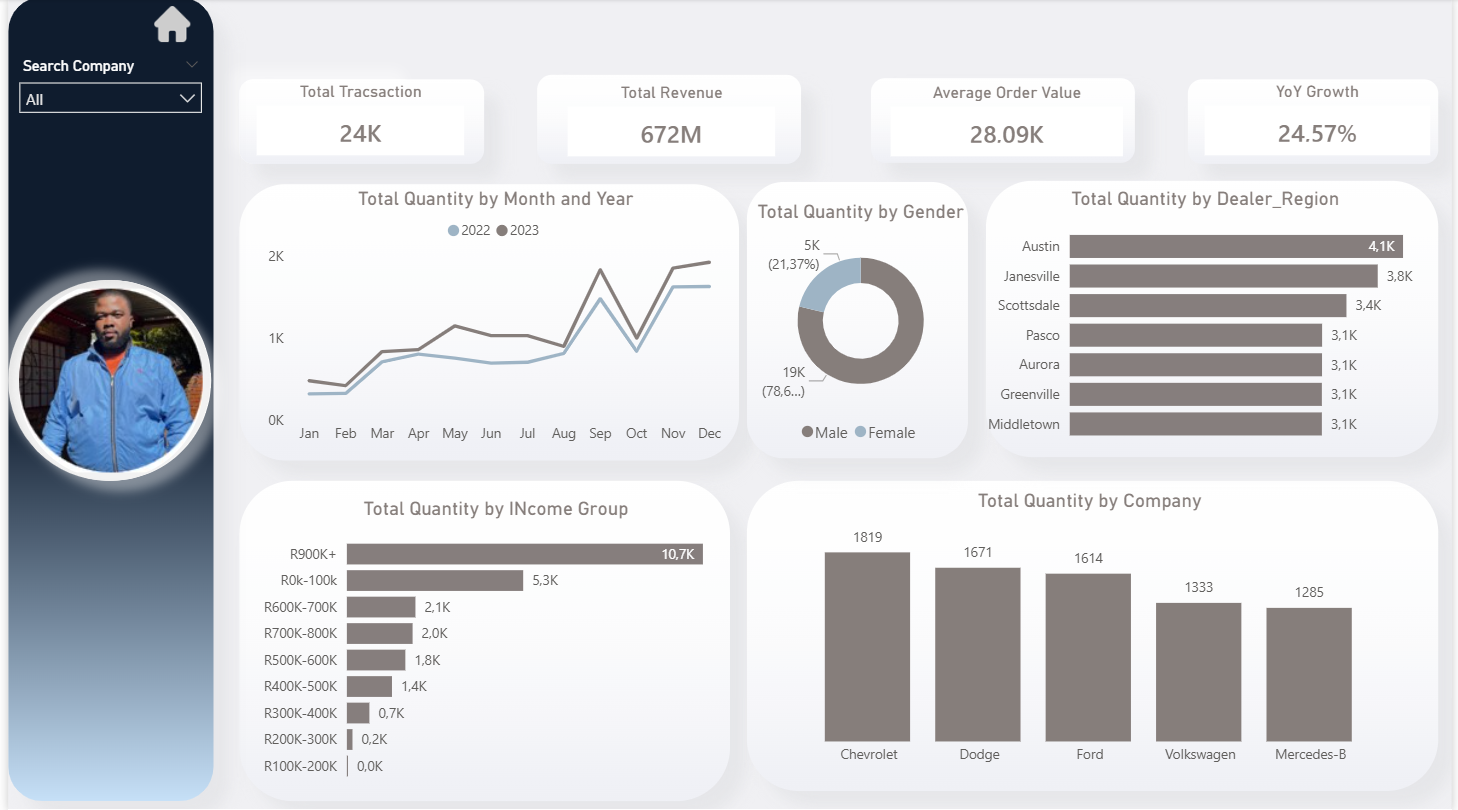

The dashboard page shown, as its layout file describes it:
{"tool":"powerbi","page":{"name":"Page 2","canvas":[1280,720],"ordinal":1},"visuals":[{"type":"slicer","fields":{"Values":["car+sales+cleaned (2).Company"]},"box":[0,47.3,181.8,61.7],"z":0,"group":"g1"},{"type":"cardVisual","title":"Total Tracsaction","fields":{"Data":["Measure.Total Quantity"]},"box":[215.4,73.3,194.6,70.6],"z":0},{"type":"image","box":[127.7,6.2,35.5,32],"z":1000,"group":"g1"},{"type":"lineChart","fields":{"Y":["Measure.Total Quantity"],"Category":["Calendar Table.Month"],"Series":["Calendar Table.Year"]},"box":[225.4,166.6,414.6,236.3],"z":1000},{"type":"donutChart","fields":{"Category":["car+sales+cleaned (2).Gender"],"Y":["Measure.Total Quantity"]},"box":[658.5,178,194.5,224.7],"z":2000},{"type":"barChart","fields":{"Y":["Measure.Total Quantity"],"Category":["car+sales+cleaned (2).Dealer_Region"]},"box":[857.9,166.3,408.5,236.4],"z":3000},{"type":"barChart","fields":{"Y":["Measure.Total Quantity"],"Category":["car+sales+cleaned (2).INcome Group"]},"box":[215.4,441.8,434.5,262.5],"z":4000},{"type":"columnChart","fields":{"Category":["car+sales+cleaned (2).Company"],"Y":["Measure.Total Quantity"]},"box":[679.9,434.8,558.3,253.9],"z":5000},{"type":"group","id":"g1","title":"Slicer State","box":[0,6.2,181.8,102.9],"z":6000},{"type":"cardVisual","title":"Total Revenue","fields":{"Data":["Measure.Total Revenue"]},"box":[491.5,74.2,194.6,70.6],"z":8000},{"type":"cardVisual","title":"Average Order Value","fields":{"Data":["Measure.Average Order Value"]},"box":[777.6,74.2,216.4,70.6],"z":9000},{"type":"cardVisual","title":"YoY Growth","fields":{"Data":["Measure.YoY Total Quantity"]},"box":[1056.4,73.3,210,70.6],"z":10000},{"type":"image","box":[9.8,251.8,163.2,173.8],"z":10001}]}

Visuals, with their boxes in screenshot pixels (x1, y1, x2, y2), scaled from the page's 1280x720 canvas onto the 1458x810 screenshot:
slicer - car+sales+cleaned (2).Company: (x1=0, y1=53, x2=207, y2=123)
"Total Tracsaction" cardVisual: (x1=245, y1=82, x2=467, y2=162)
image: (x1=145, y1=7, x2=186, y2=43)
lineChart - Measure.Total Quantity x Calendar Table.Month: (x1=257, y1=187, x2=729, y2=453)
donutChart - car+sales+cleaned (2).Gender x Measure.Total Quantity: (x1=750, y1=200, x2=972, y2=453)
barChart - Measure.Total Quantity x car+sales+cleaned (2).Dealer_Region: (x1=977, y1=187, x2=1443, y2=453)
barChart - Measure.Total Quantity x car+sales+cleaned (2).INcome Group: (x1=245, y1=497, x2=740, y2=792)
columnChart - car+sales+cleaned (2).Company x Measure.Total Quantity: (x1=774, y1=489, x2=1410, y2=775)
"Slicer State" group: (x1=0, y1=7, x2=207, y2=123)
"Total Revenue" cardVisual: (x1=560, y1=83, x2=782, y2=163)
"Average Order Value" cardVisual: (x1=886, y1=83, x2=1132, y2=163)
"YoY Growth" cardVisual: (x1=1203, y1=82, x2=1443, y2=162)
image: (x1=11, y1=283, x2=197, y2=479)
